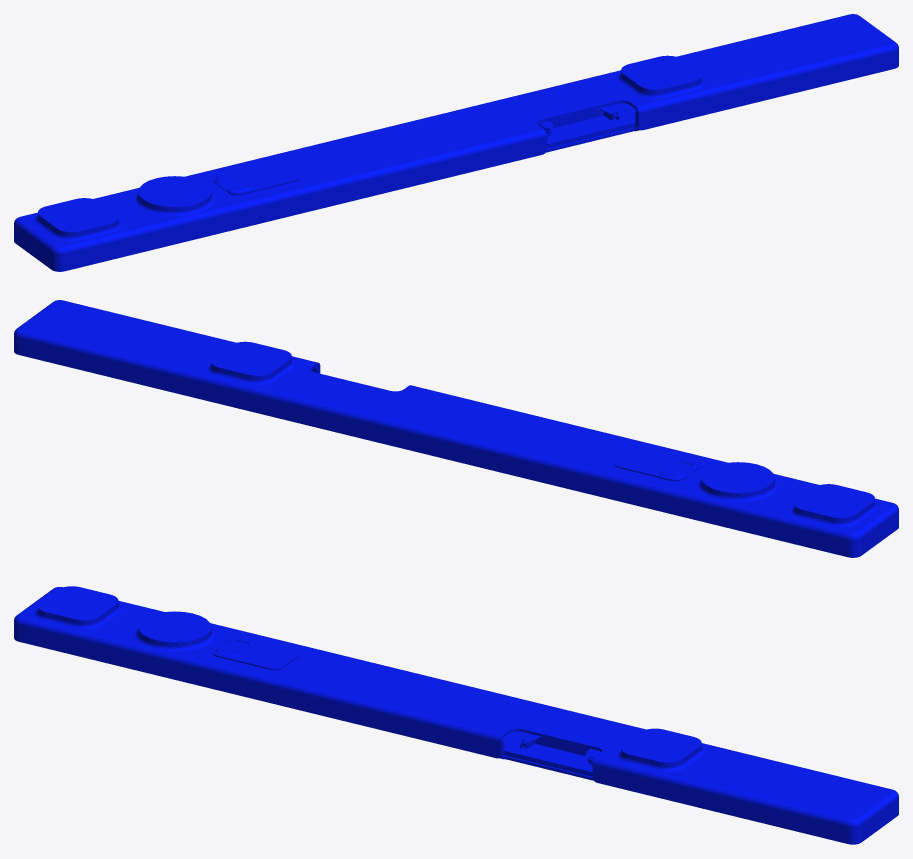
3 views of the same model, one above another, from view 1: azimuth 30°, elevation 25°; view 2: azimuth 150°, elevation 25°; view 3: azimuth 330°, elevation 25° (orthographic).
Visible parts, largest first — view 1: node24; view 2: node24; view 3: node24.
Boxes of the visible parts, bbox=[...] form: node24: bbox=[14, 14, 898, 271]; node24: bbox=[14, 300, 898, 557]; node24: bbox=[14, 586, 898, 844].
Size of the model in its own units: 0.1015 by 0.00955 by 0.0038.
